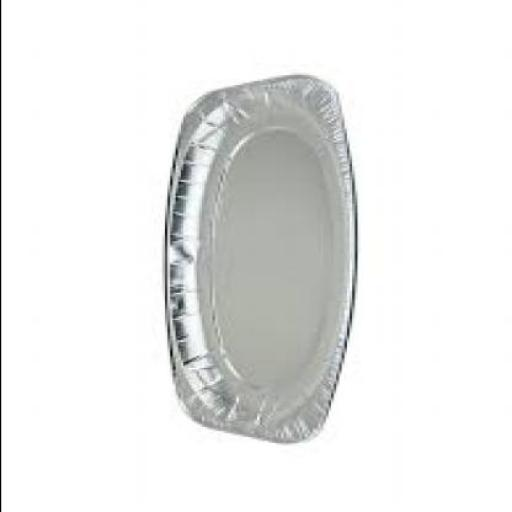metal: (161, 71, 353, 443)
